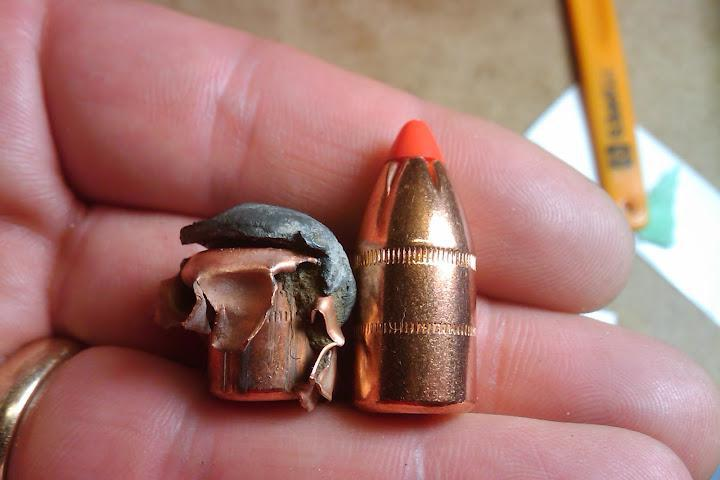Bullet: (344, 115, 496, 423), (166, 202, 351, 405)
